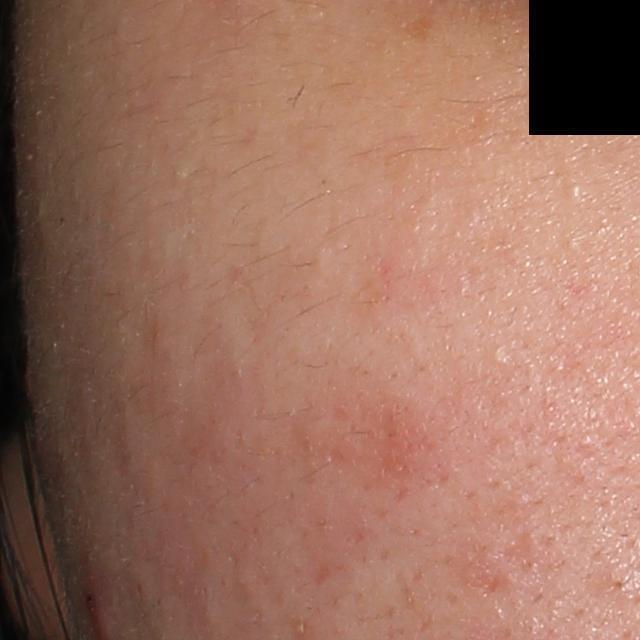comedo: (561, 178, 586, 205), (483, 342, 510, 365)
melasma: (401, 12, 434, 49)
